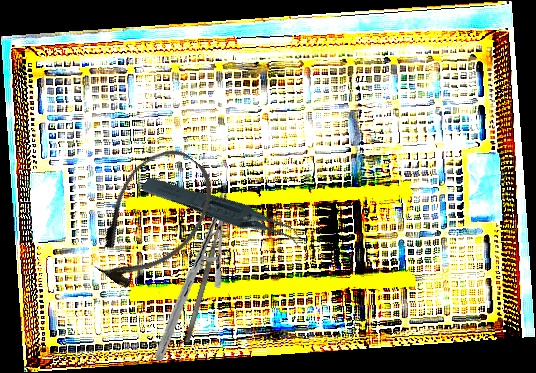Cannula: (72, 134, 231, 304)
Needle Holder: (136, 192, 247, 361)
Spatula Surgical: (183, 203, 230, 344)
Tissue Forceps: (140, 147, 306, 280)
